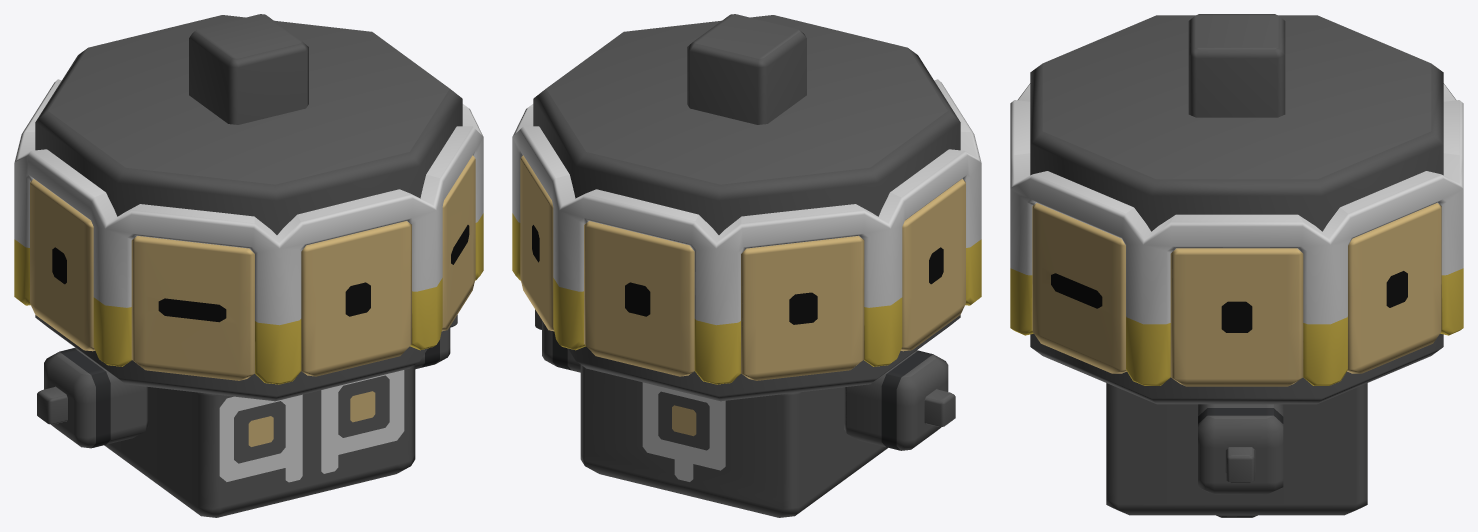
3 views of the same model, side by side, from view 1: azimuth 30°, elevation 25°; view 2: azimuth 150°, elevation 25°; view 3: azimuth 270°, elevation 25° (orthographic). The views are drawn at different scales.
Visible parts, largest first — view 1: model; view 2: model; view 3: model.
Part boxes in pixels (x1,y1,x2,y2): model: (14,14,483,517); model: (512,14,981,517); model: (1010,14,1463,517).
Size of the model in its own units: 3.03 by 3.08 by 2.8.
